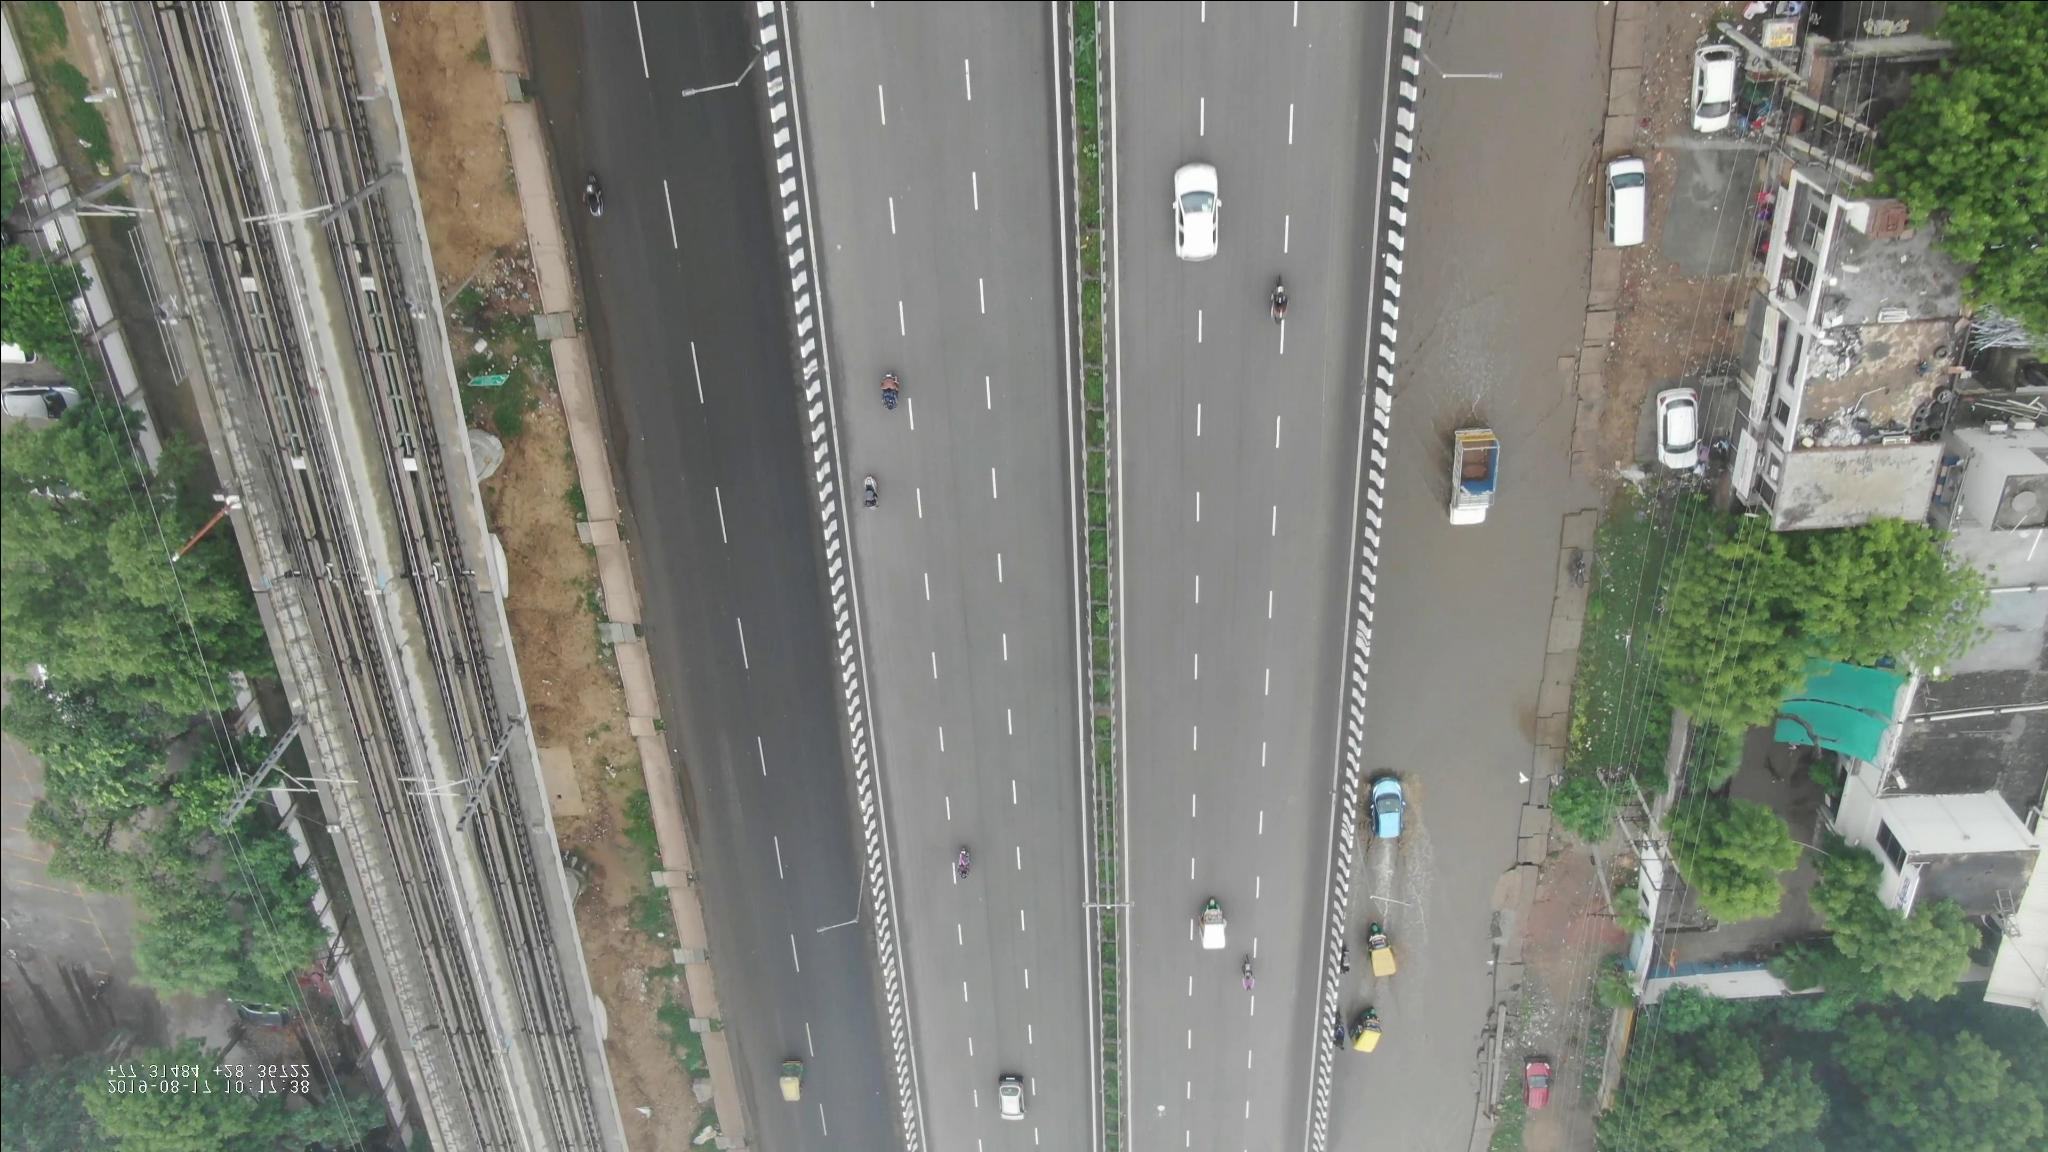Waterlogging: (1362, 454, 1535, 889), (1412, 20, 1601, 398), (1339, 916, 1492, 1152), (568, 231, 648, 512), (515, 11, 578, 151), (667, 743, 710, 854)
